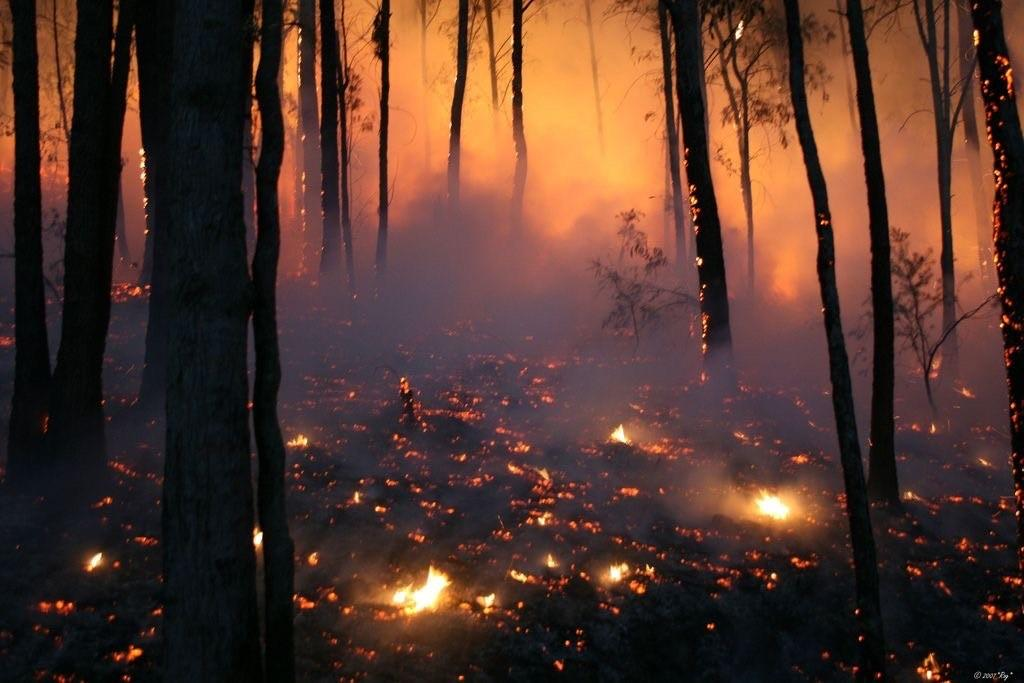fire: (261, 360, 847, 641), (25, 578, 150, 680), (110, 267, 155, 311)
